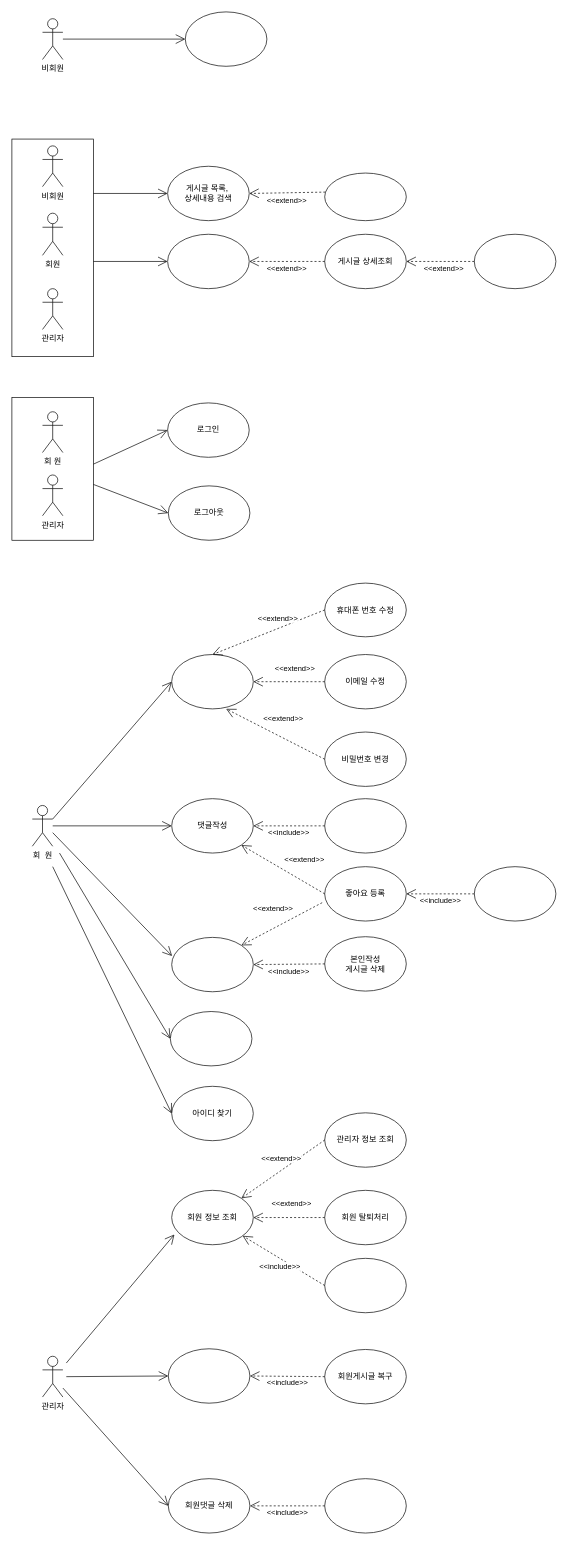
This 568x1545 diagram has some shape labels left out. Each missing label, with the centre of its shape:
게시글 목록 조회: point (208, 261)
게시글 작성: point (212, 964)
내정보조회: point (212, 681)
댓글 조회: point (515, 261)
본인작성 댓글 삭제: point (365, 825)
비밀번호 초기화: point (211, 1038)
좋아요 삭제: point (515, 893)
해시태그 목록조회: point (365, 196)
회원 복구조치: point (365, 1285)
회원가입: point (226, 38)
회원게시글 삭제: point (209, 1375)
회원댓글 복구: point (365, 1505)
